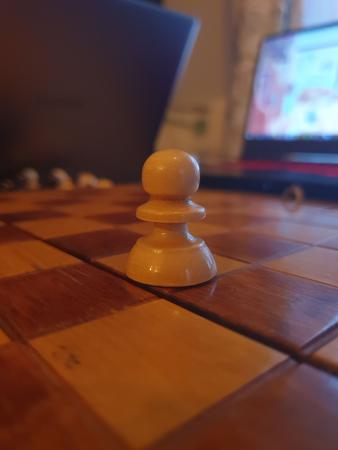wpawn: (125, 149, 217, 287)
